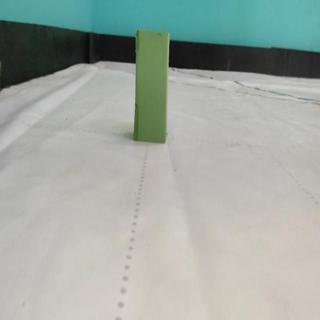greenbox: (133, 27, 170, 144)
